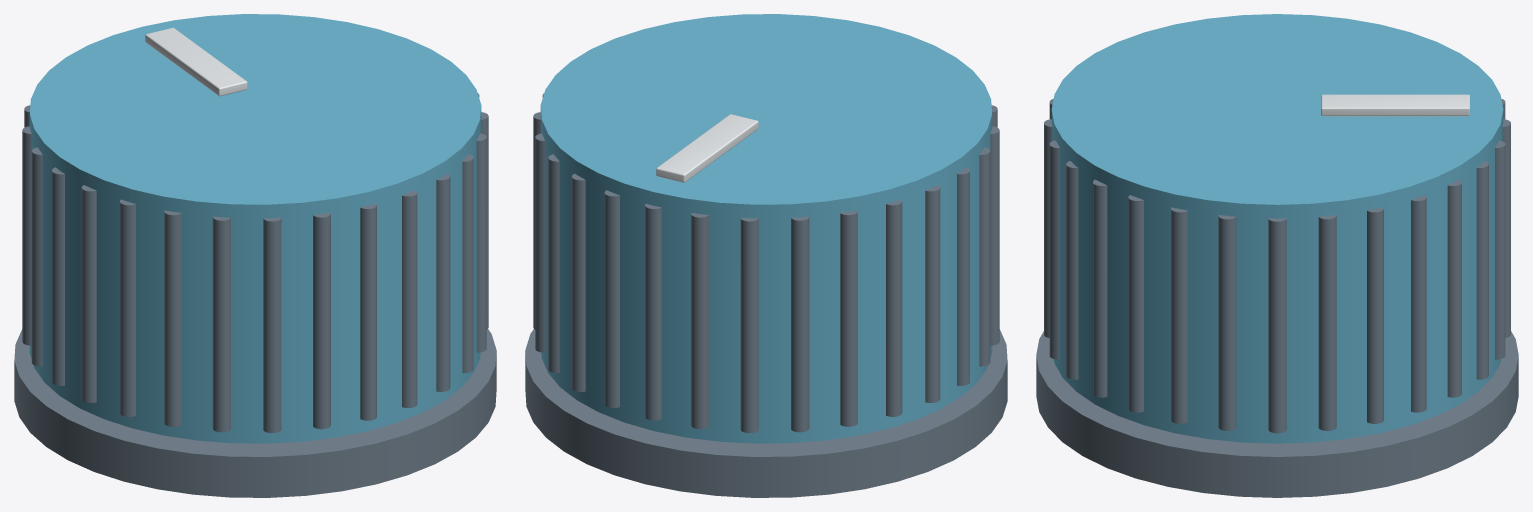
The picture shows the model from 3 angles, left to right: view 1: azimuth 30°, elevation 25°; view 2: azimuth 150°, elevation 25°; view 3: azimuth 270°, elevation 25°; orthographic projection.
Parts seen in each view (by area): view 1: B/0000_grip, B/0001_flange, B/0020_knurl, B/0021_knurl, B/0022_knurl, B/0019_knurl, B/0023_knurl, B/0018_knurl, B/0017_knurl, B/0024_knurl, B/0025_knurl, B/0030_index_mark (+6 smaller); view 2: B/0000_grip, B/0001_flange, B/0012_knurl, B/0011_knurl, B/0010_knurl, B/0013_knurl, B/0009_knurl, B/0014_knurl, B/0015_knurl, B/0008_knurl, B/0007_knurl, B/0030_index_mark (+6 smaller); view 3: B/0000_grip, B/0001_flange, B/0002_knurl, B/0003_knurl, B/0029_knurl, B/0004_knurl, B/0028_knurl, B/0005_knurl, B/0027_knurl, B/0030_index_mark, B/0006_knurl, B/0026_knurl (+6 smaller).
Part boxes in pixels (x1,y1,x2,y2): B/0000_grip: (29,14,481,443); B/0001_flange: (14,329,496,497); B/0020_knurl: (212,216,230,432); B/0021_knurl: (263,217,281,432); B/0022_knurl: (313,213,330,429); B/0019_knurl: (164,210,181,426); B/0023_knurl: (360,203,376,420); B/0018_knurl: (119,199,135,416); B/0017_knurl: (81,185,96,402); B/0024_knurl: (402,190,417,407); B/0025_knurl: (436,173,450,391); B/0030_index_mark: (145,27,247,96); B/0000_grip: (540,14,992,443); B/0001_flange: (525,329,1007,497); B/0012_knurl: (791,216,809,432); B/0011_knurl: (740,217,758,432); B/0010_knurl: (691,213,708,429); B/0013_knurl: (840,210,857,426); B/0009_knurl: (645,203,661,420); B/0014_knurl: (886,199,902,416); B/0015_knurl: (925,185,940,402); B/0008_knurl: (604,190,619,407); B/0007_knurl: (571,173,585,391); B/0030_index_mark: (656,114,758,182); B/0000_grip: (1051,14,1503,443); B/0001_flange: (1036,331,1518,497); B/0002_knurl: (1268,218,1286,433); B/0003_knurl: (1318,215,1336,430); B/0029_knurl: (1218,215,1236,430); B/0004_knurl: (1367,207,1383,423); B/0028_knurl: (1171,207,1187,423); B/0005_knurl: (1411,195,1426,412); B/0027_knurl: (1128,195,1143,412); B/0030_index_mark: (1321,94,1469,116); B/0006_knurl: (1447,179,1461,397); B/0026_knurl: (1093,179,1107,397).
Size of the model in its own units: 0.0705 by 0.0475 by 0.0705.
